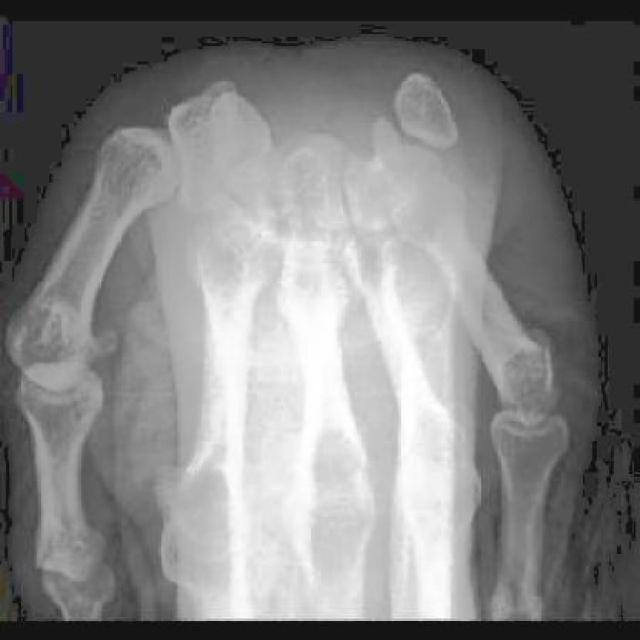Fracture: (363, 137, 414, 171)
